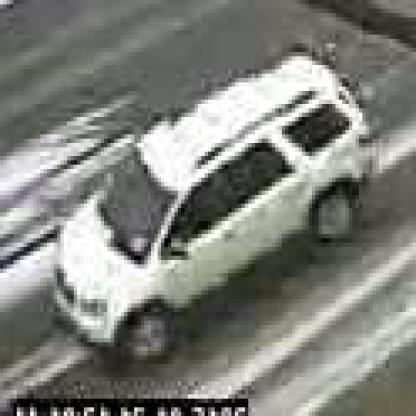car: (48, 57, 377, 365)
